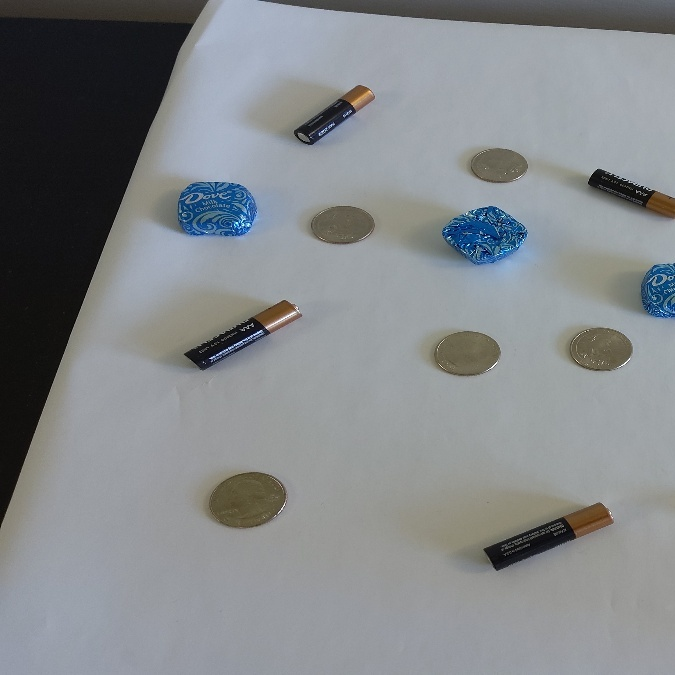battery: (476, 480, 630, 580), (176, 290, 306, 371), (287, 72, 381, 147)
chocolate_blue: (437, 197, 532, 272), (174, 174, 260, 242)
coin_quarter: (204, 463, 293, 531), (305, 195, 376, 255), (431, 323, 502, 382), (569, 320, 640, 379), (469, 142, 537, 192)
